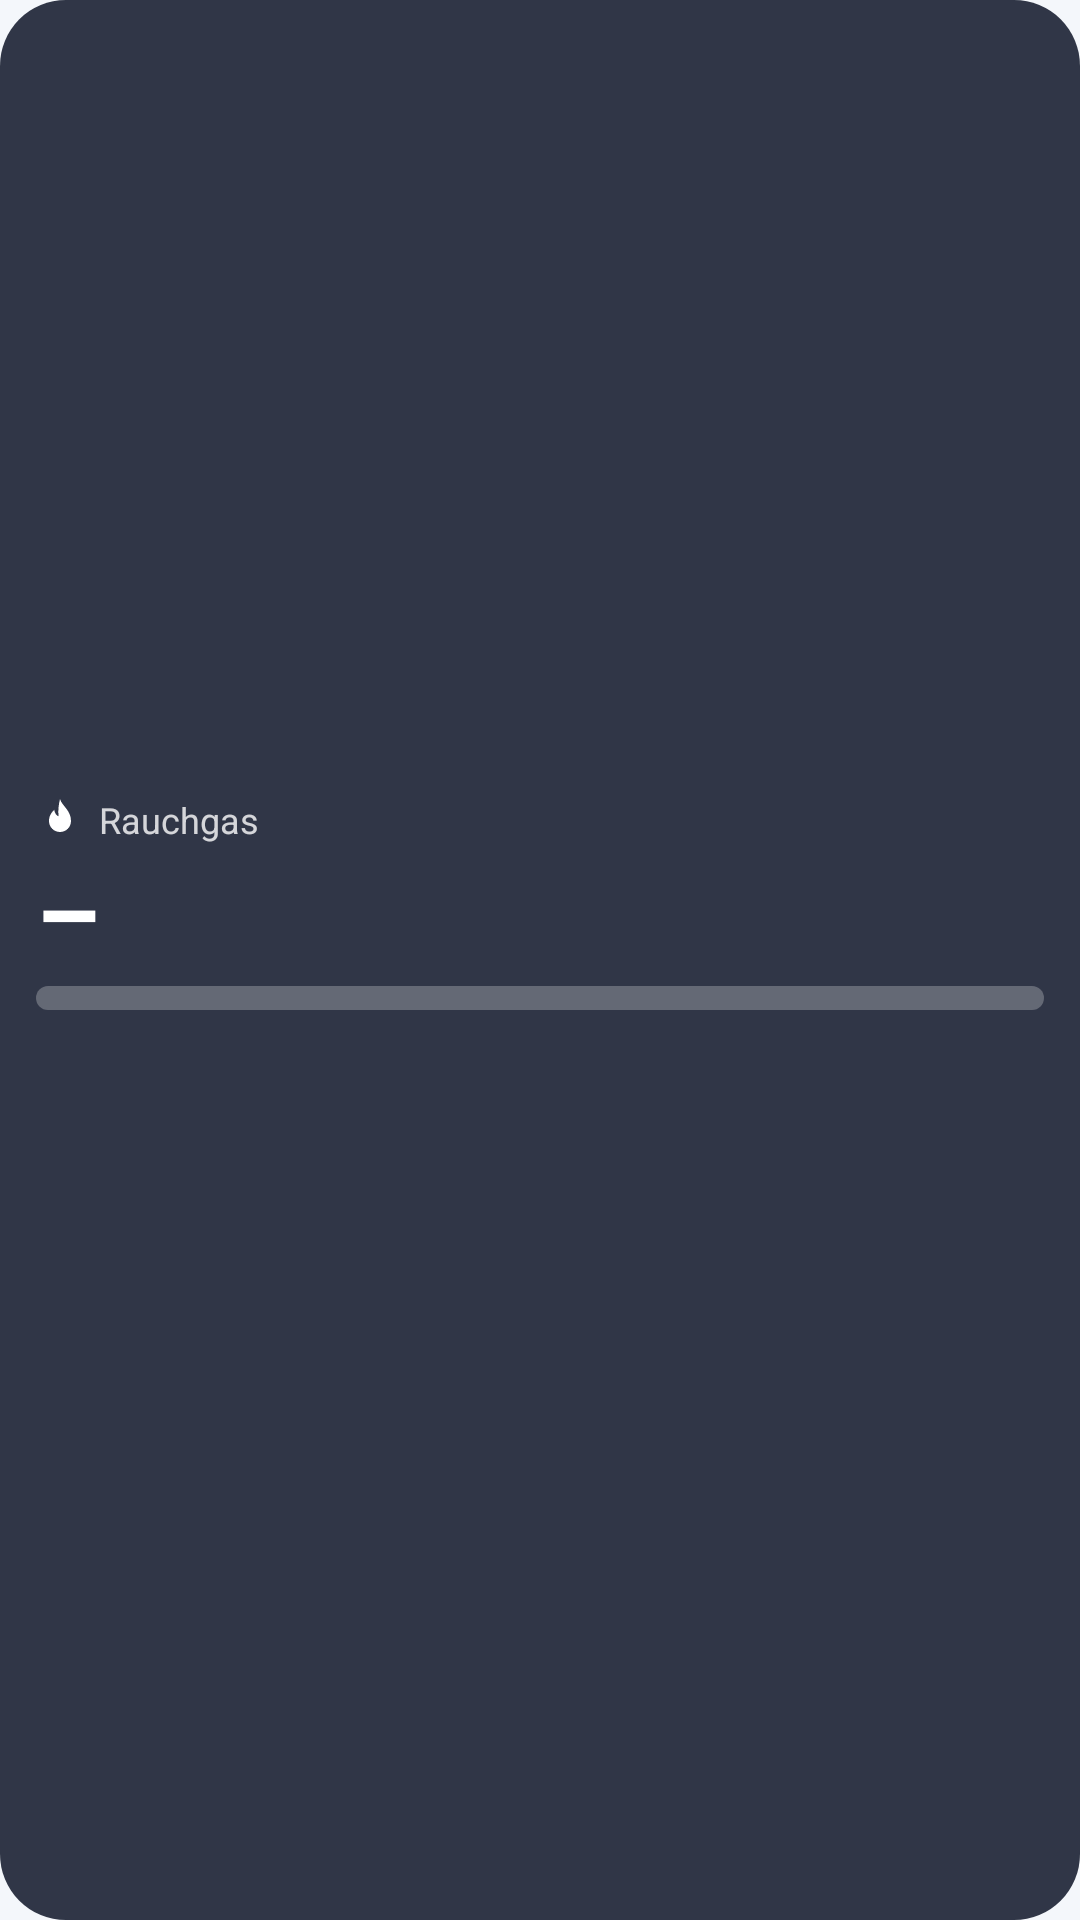

Where icons sit on this 1080 × 1920 app screen, as detection(x1, y1, x2, y2):
flame: detection(49, 799, 71, 832)
